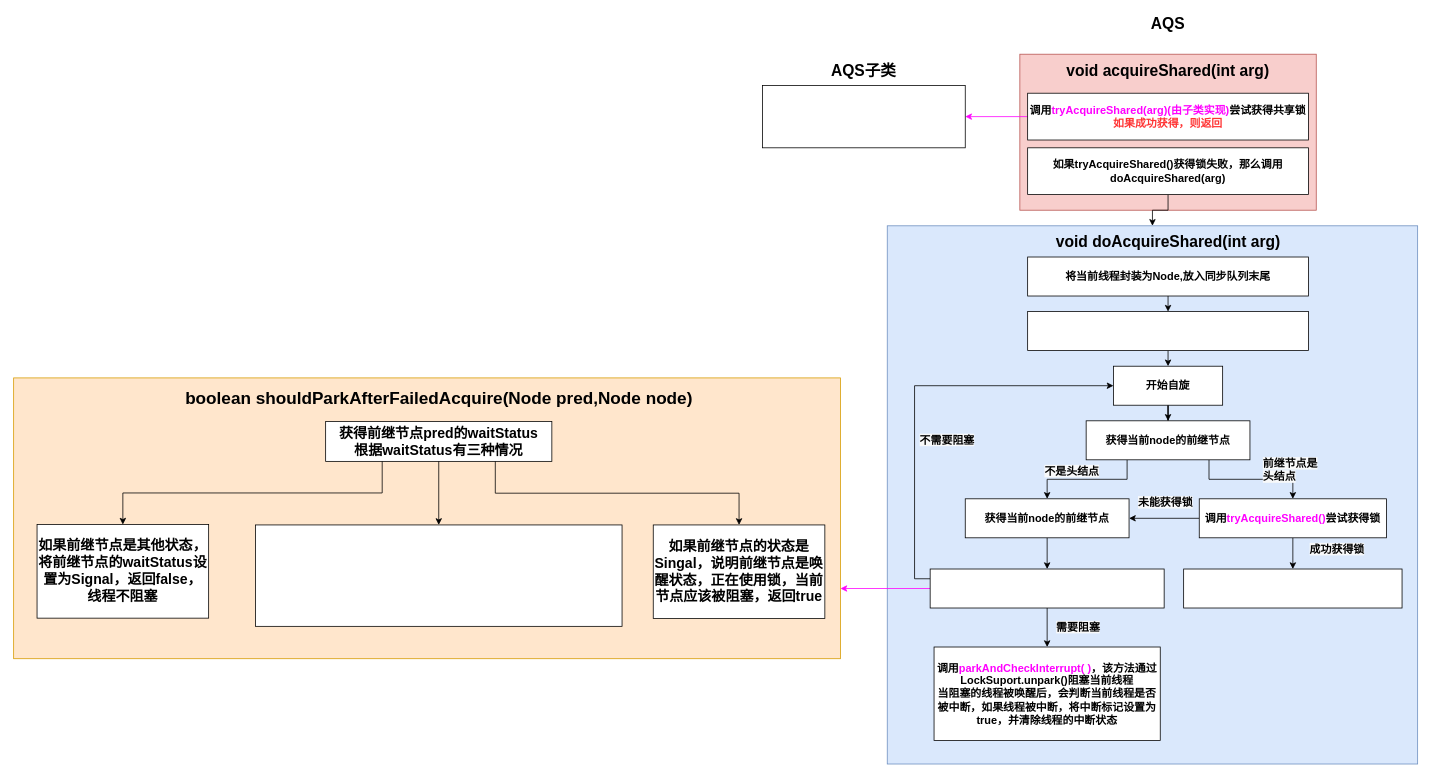
The diagram is 1431 pixels wide and 778 high, and some of its shapes have lost their labels. Each missing label, with the box of its shape:
tryAcquireShared(int arg): (762, 85, 965, 148)
初始化中断标记为false: (1027, 311, 1308, 351)
如果前继节点的状态是CANCELLED，说明前继节点是取消状态，从前继节点开始，不断向前找到取消状态的节点，将这些节点都从队列中移除，返回false，线程不阻塞: (255, 524, 622, 626)
将当前节点设置为头节点 如果中断标记为true，那么将中断当前线程 结束: (1183, 568, 1402, 608)
调用 shouldParkAfterFailedAcquired() 根据前继节点的状态判断当前节点是否需要阻塞: (929, 568, 1164, 608)
